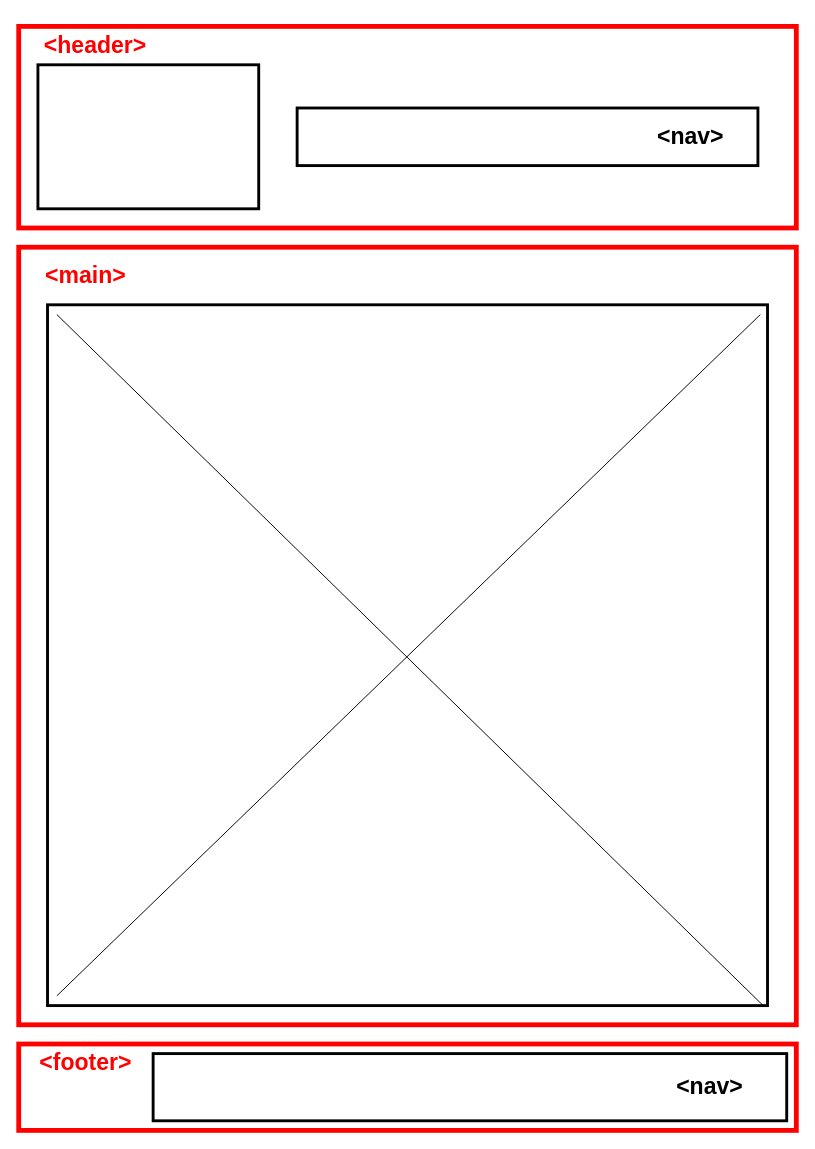
Some shapes in this 815 by 1149 pixel diagram are drawn without their labels. Here are the shapes that lost their labels. From the top down, the centre of each, then its label:
At pixel 148 136: "logo".
At pixel 407 655: "<figure>".
